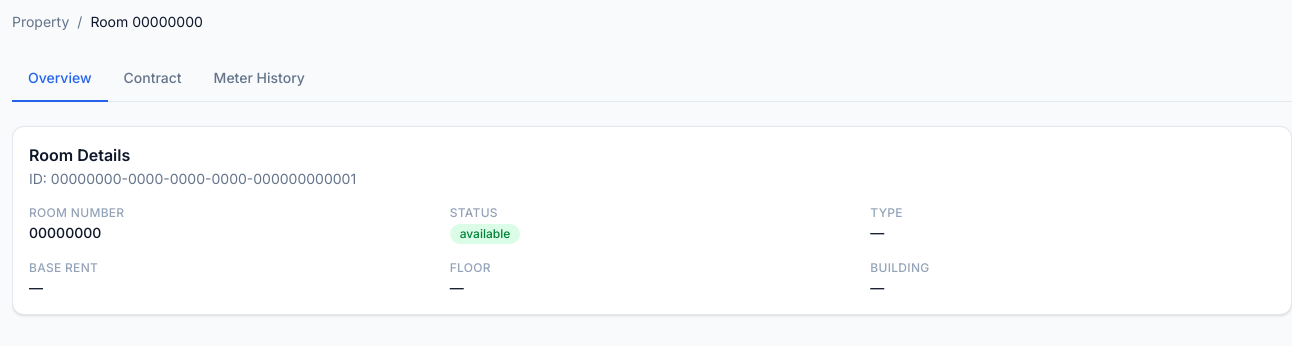
Test case: RoomDetailPage › tab switching › switches back to Overview tab
Click the tab "Contract".
click(153, 79)  # box x1=108 y1=56 x2=198 y2=102
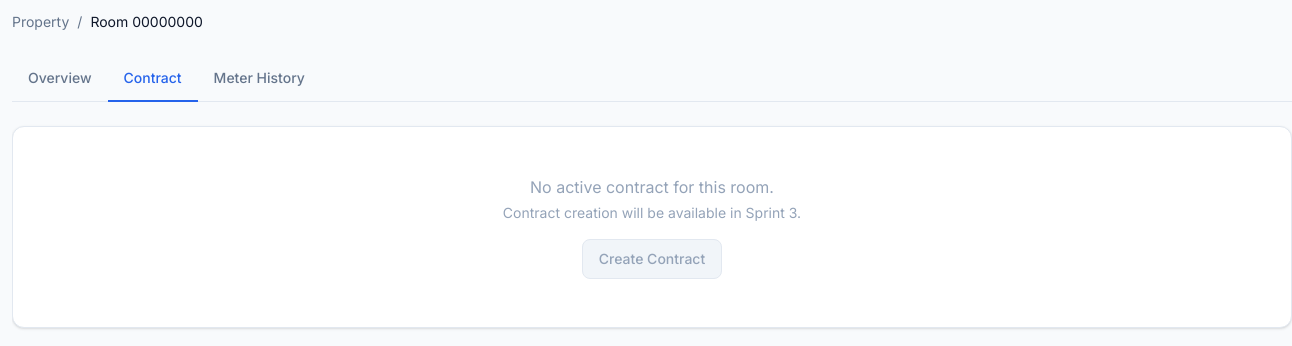
Click the tab "Overview".
click(60, 79)  # box x1=12 y1=56 x2=108 y2=102
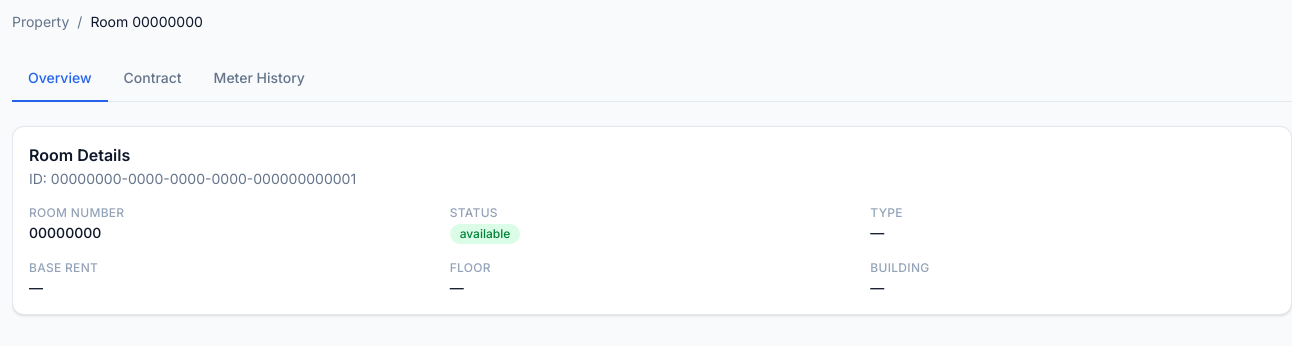
expect the heading "Room Details" is shown: met, box x1=29 y1=145 x2=130 y2=165
